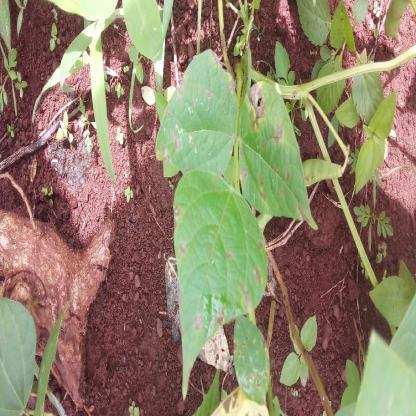Beans_Angular_LeafSpot: (174, 168, 270, 386), (237, 81, 318, 231), (148, 54, 241, 171)
